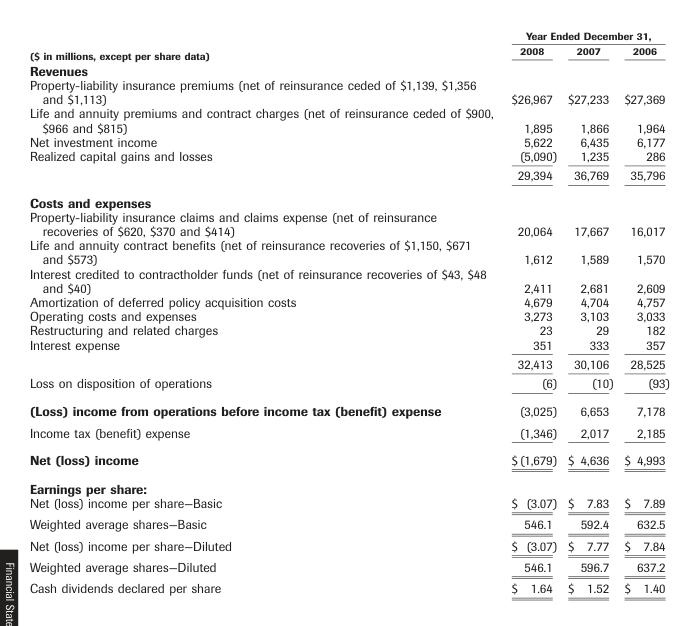table: (28, 28, 668, 595)
table column: (28, 28, 501, 595), (501, 28, 561, 595), (561, 28, 618, 595), (618, 28, 668, 595)
table column header: (28, 28, 668, 62)
table projected row header: (28, 473, 668, 495), (28, 188, 668, 209), (28, 62, 668, 77)
table row: (28, 105, 668, 134), (28, 237, 668, 266), (28, 77, 668, 105), (28, 209, 668, 237), (28, 266, 668, 294), (28, 445, 668, 473), (28, 396, 668, 421), (28, 421, 668, 445), (28, 165, 668, 188), (28, 373, 668, 396), (28, 473, 668, 495), (28, 555, 668, 577), (28, 188, 668, 209), (28, 513, 668, 534), (28, 534, 668, 555), (28, 42, 668, 62), (28, 353, 668, 373), (28, 495, 668, 513), (28, 577, 668, 595), (28, 148, 668, 165), (28, 337, 668, 353), (28, 62, 668, 77), (28, 322, 668, 337), (28, 28, 668, 42), (28, 134, 668, 148), (28, 294, 668, 308), (28, 308, 668, 322)
table spanning cell: (28, 28, 501, 62), (501, 28, 668, 42)
